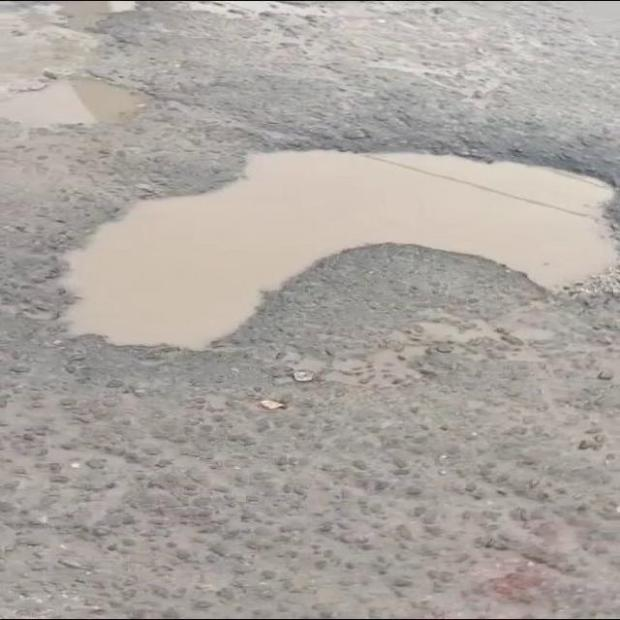lubang: (63, 151, 616, 349), (0, 76, 159, 151), (0, 2, 153, 64)
